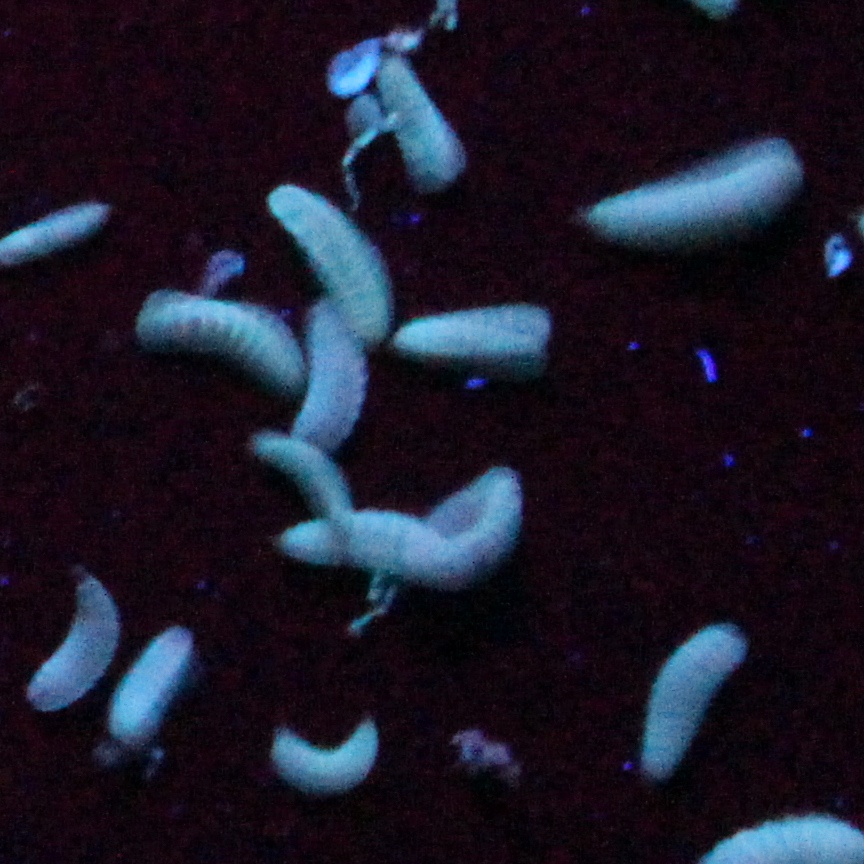larve: (278, 455, 530, 578), (584, 135, 801, 234), (639, 616, 755, 778), (266, 185, 384, 342), (129, 278, 294, 390), (25, 567, 122, 711), (242, 429, 358, 547), (371, 55, 458, 186), (109, 623, 201, 743), (304, 296, 366, 462), (270, 711, 384, 799), (398, 301, 550, 353), (1, 204, 107, 264)
